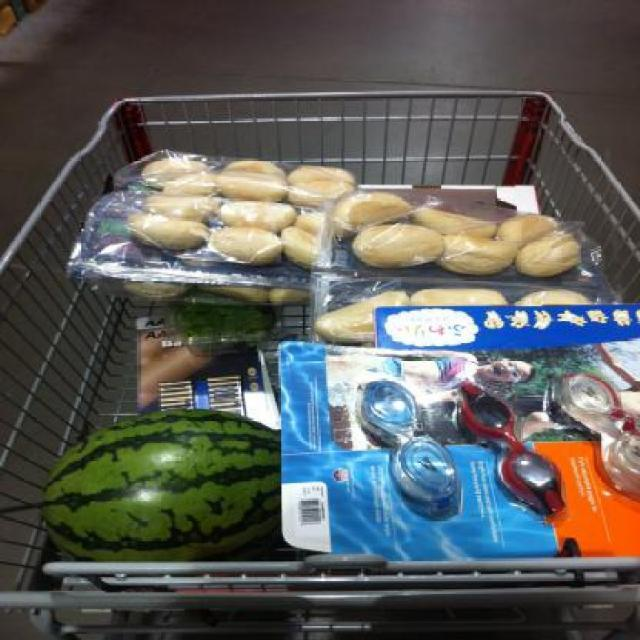Watermelon: (36, 409, 284, 568)
